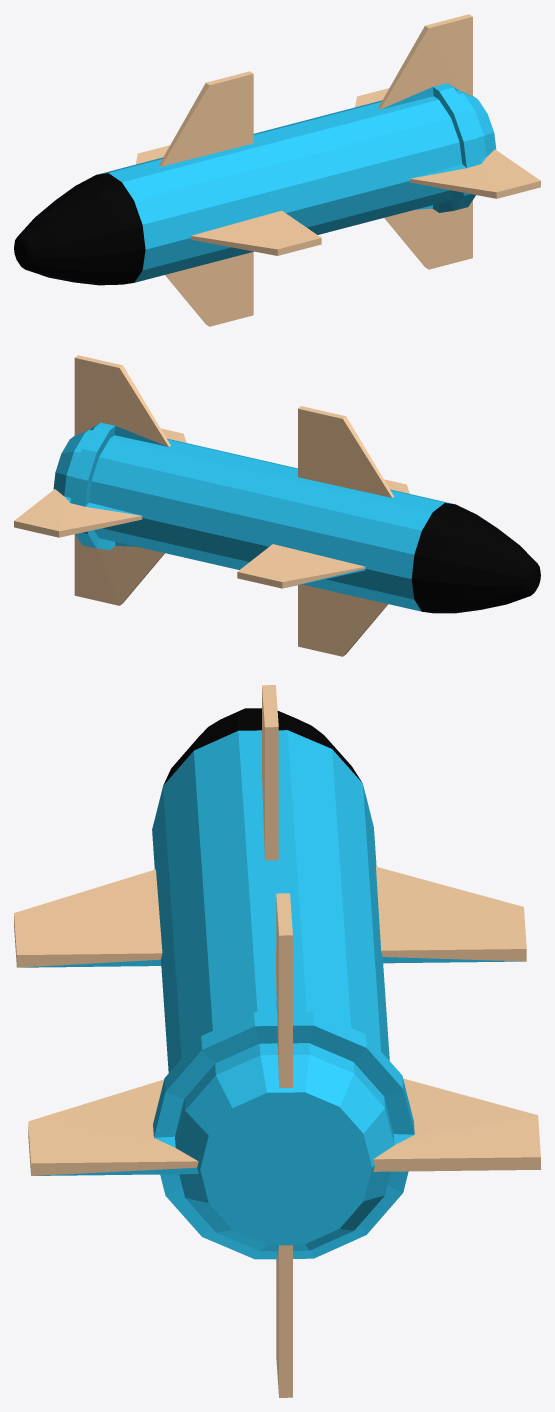
The model's file is ToyObject_192.fbx.
3 views of the same model, one above another, from view 1: azimuth 30°, elevation 25°; view 2: azimuth 150°, elevation 25°; view 3: azimuth 270°, elevation 25° (orthographic). The views are drawn at different scales.
Visible parts, largest first — view 1: Object.020; view 2: Object.020; view 3: Object.020.
Boxes of the visible parts, x1,y1,x2,y2 form: Object.020: (14, 14, 540, 326); Object.020: (14, 355, 540, 656); Object.020: (14, 685, 540, 1397).
Size of the model in its own units: 0.1982 by 0.0991 by 0.1023.
